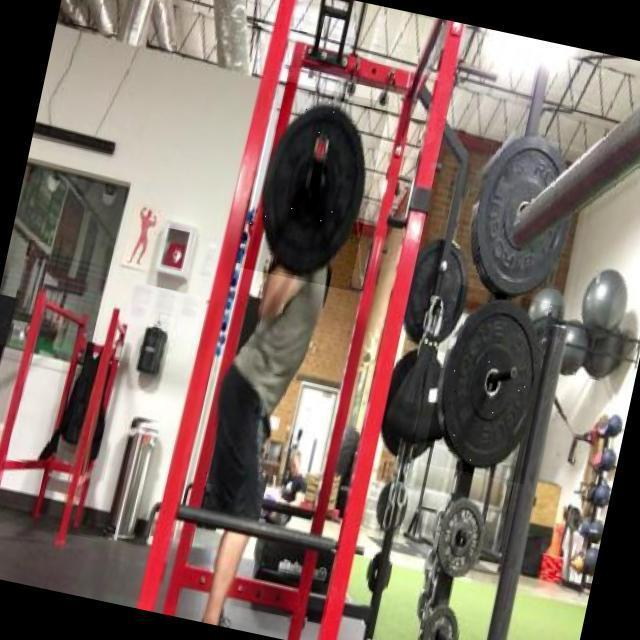barbell: (240, 81, 390, 292), (423, 285, 563, 485)
